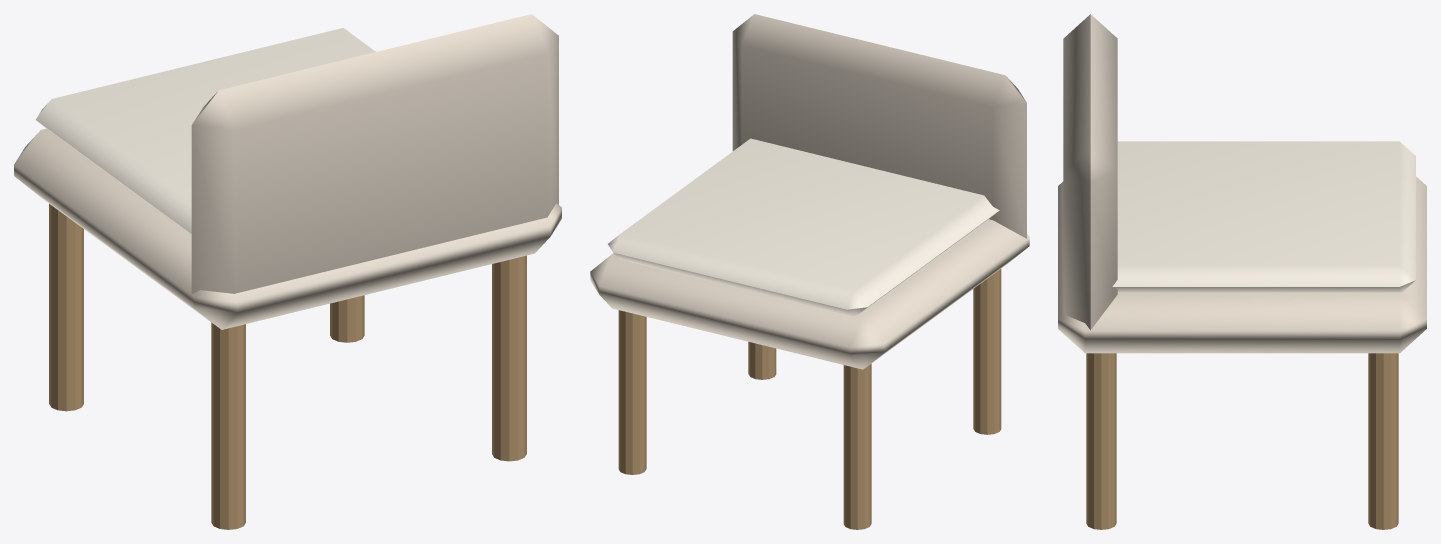
Rendered from chair.glb.
3 views of the same model, side by side, from view 1: azimuth 30°, elevation 25°; view 2: azimuth 150°, elevation 25°; view 3: azimuth 270°, elevation 25° (orthographic). The views are drawn at different scales.
Visible parts, largest first — view 1: back, seat, seat_pad, leg, leg.002, leg.001, leg.003; view 2: seat_pad, back, seat, leg.001, leg.003, leg, leg.002; view 3: seat_pad, seat, back, leg.002, leg.003.
Part boxes in pixels (left/top/right/bottom): back: left=191, top=14, right=558, bottom=294; seat: left=14, top=128, right=561, bottom=329; seat_pad: left=36, top=28, right=375, bottom=234; leg: left=211, top=322, right=245, bottom=529; leg.002: left=492, top=255, right=526, bottom=461; leg.001: left=49, top=204, right=83, bottom=411; leg.003: left=330, top=295, right=364, bottom=342; seat_pad: left=608, top=138, right=999, bottom=316; back: left=732, top=14, right=1026, bottom=238; seat: left=590, top=219, right=1029, bottom=369; leg.001: left=843, top=363, right=871, bottom=529; leg.003: left=618, top=310, right=646, bottom=474; leg: left=973, top=269, right=1001, bottom=434; leg.002: left=748, top=342, right=776, bottom=379; seat_pad: left=1112, top=141, right=1415, bottom=292; seat: left=1058, top=176, right=1426, bottom=353; back: left=1063, top=14, right=1117, bottom=330; leg.002: left=1086, top=353, right=1116, bottom=529; leg.003: left=1368, top=353, right=1398, bottom=529.
Size of the model in its own units: 0.68 by 0.78 by 0.68.
